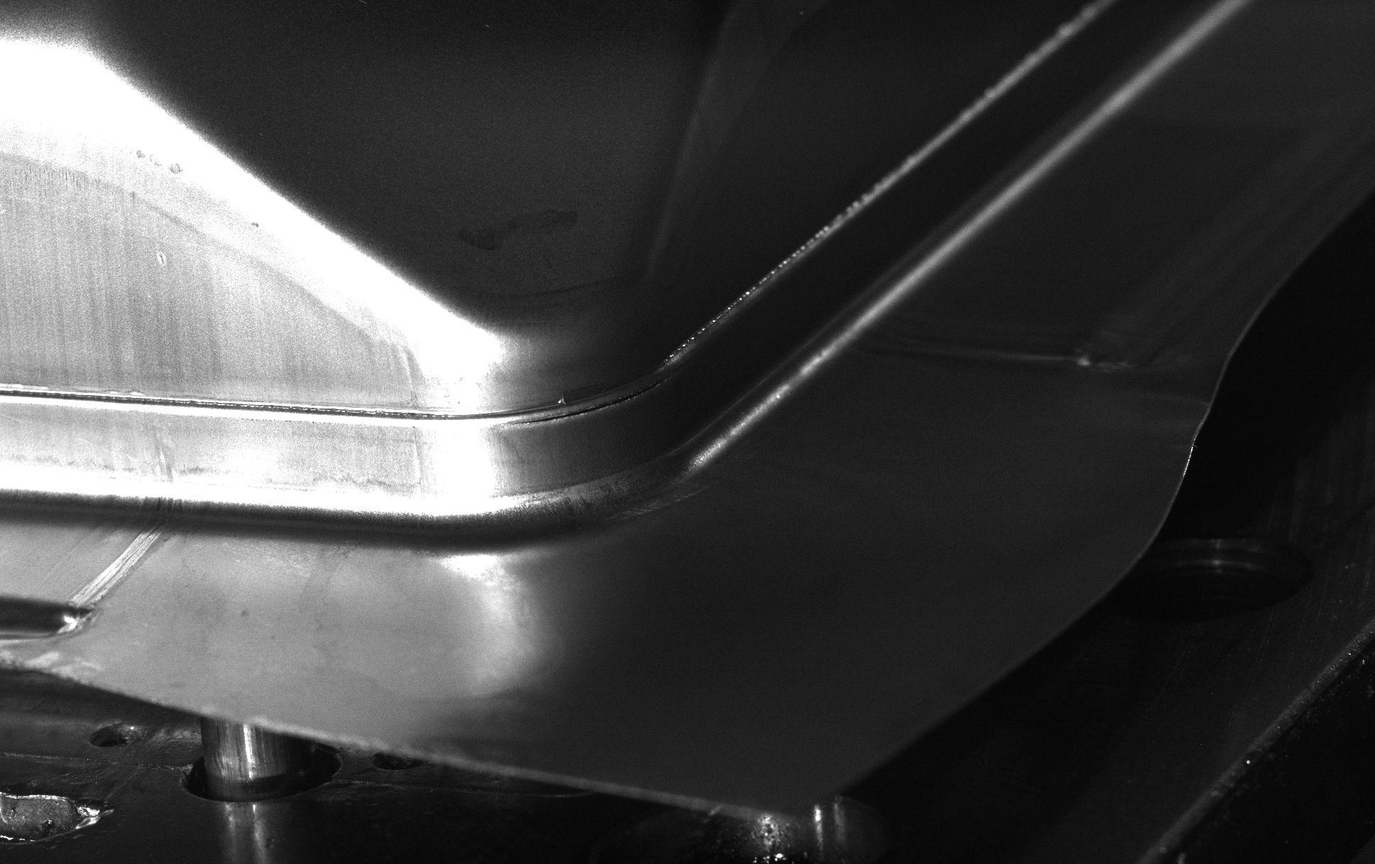crack: (462, 344, 702, 441)
